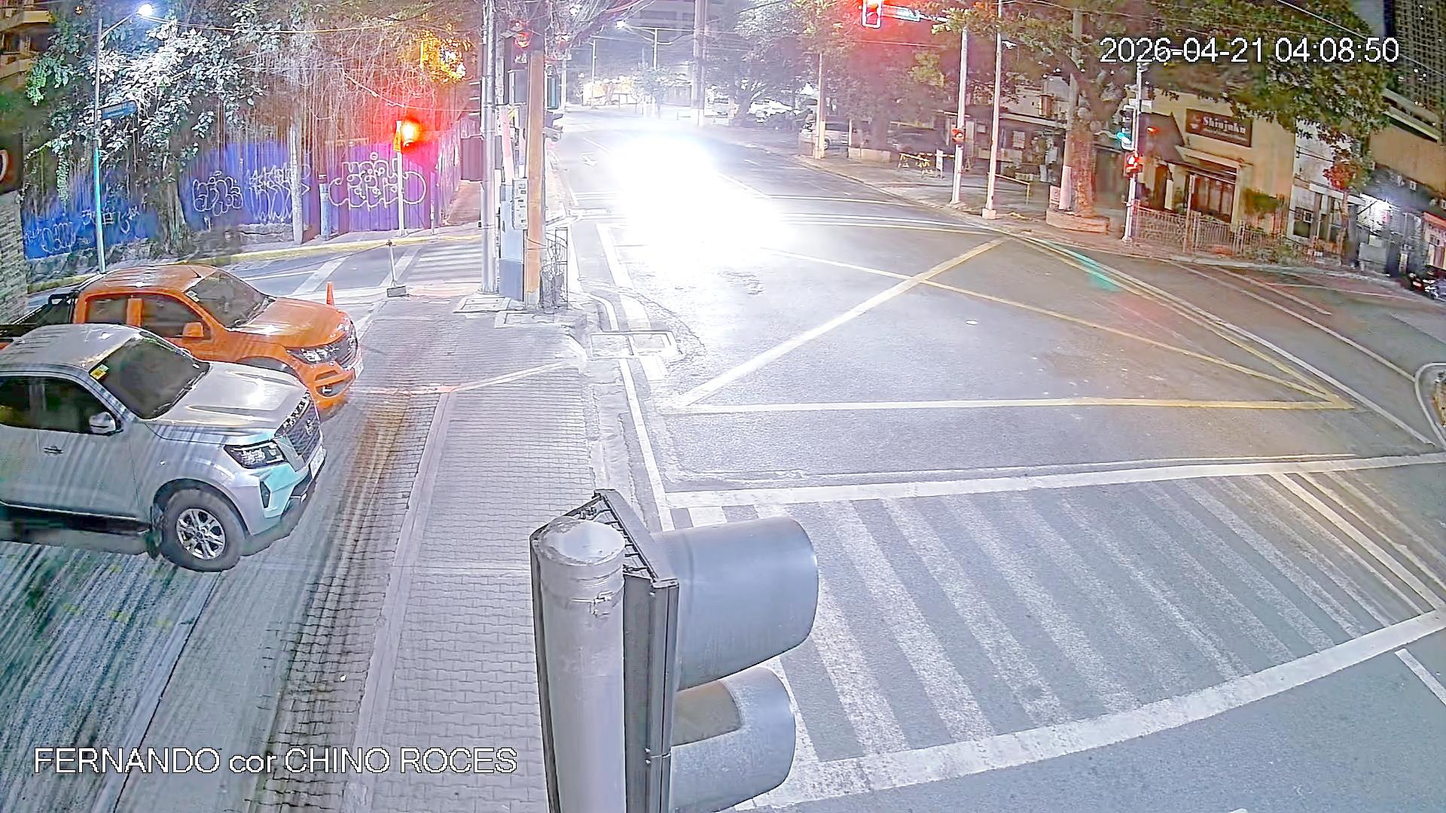Car: (0, 324, 334, 570), (41, 260, 357, 420), (795, 114, 869, 154)
